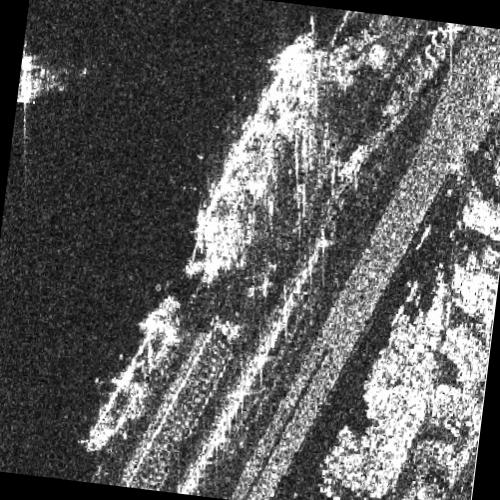ship: (184, 27, 317, 280), (83, 316, 179, 456)
